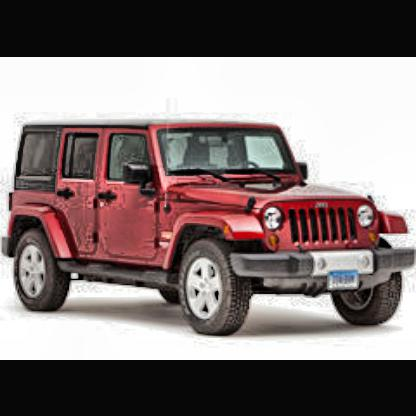Jeep Wrangler SUV 2012: (2, 114, 416, 344)
